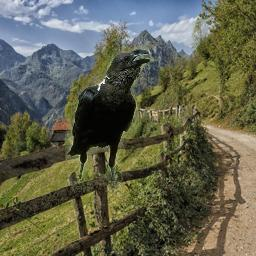Crow: (65, 45, 155, 192)
